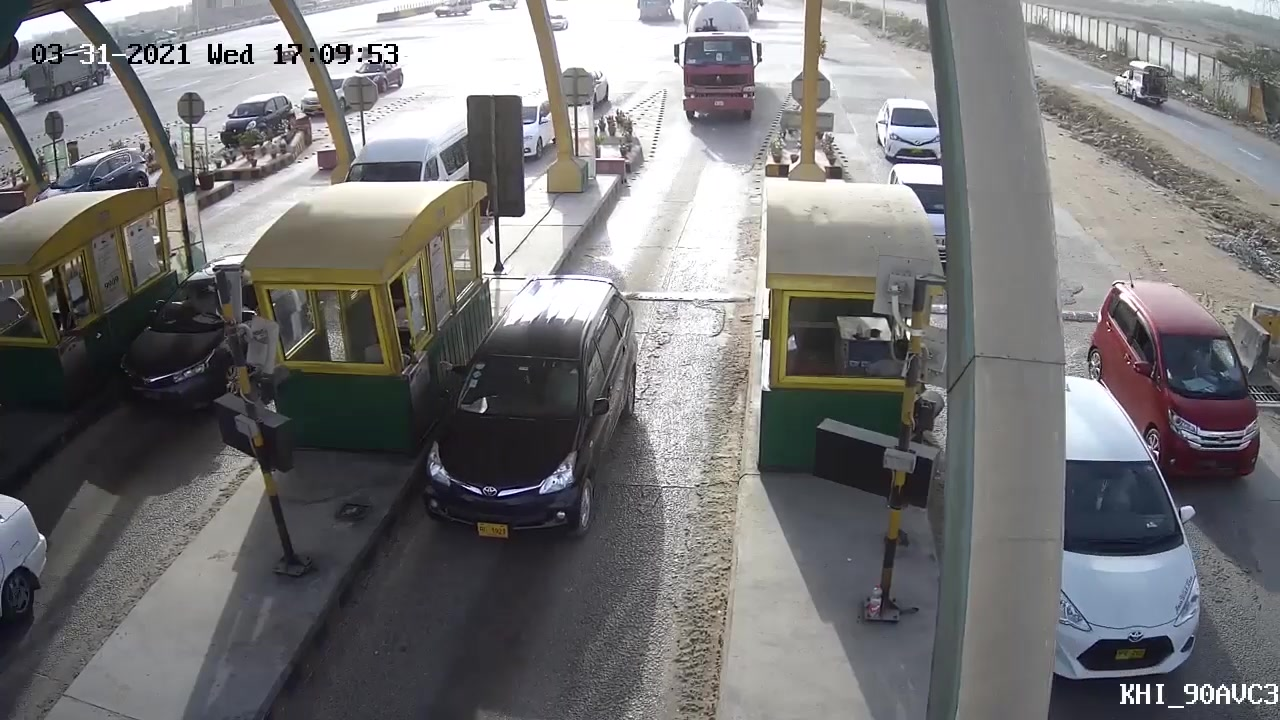F1: (412, 265, 647, 561)
